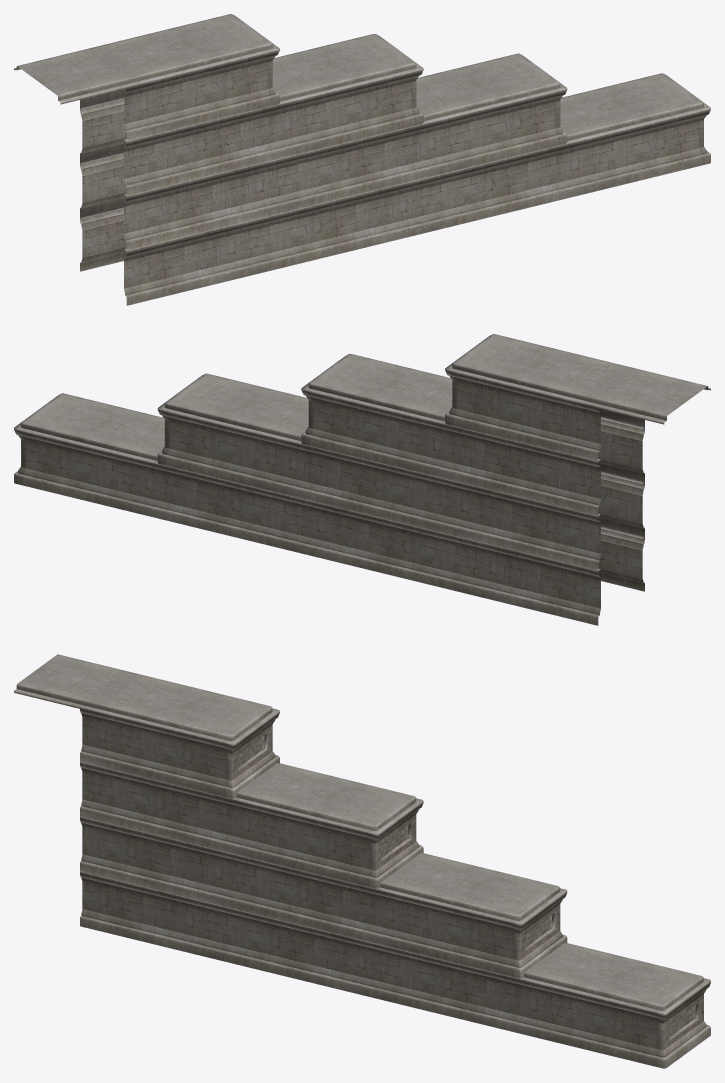
Rendered from BigRail.fbx.
3 views of the same model, one above another, from view 1: azimuth 30°, elevation 25°; view 2: azimuth 150°, elevation 25°; view 3: azimuth 330°, elevation 25° (orthographic).
Parts seen in each view (by area): view 1: LV_Campagna_Uni_BigRail_SM_CJH; view 2: LV_Campagna_Uni_BigRail_SM_CJH; view 3: LV_Campagna_Uni_BigRail_SM_CJH.
Part boxes in pixels (<box>): LV_Campagna_Uni_BigRail_SM_CJH: <box>14,14,710,305</box>; LV_Campagna_Uni_BigRail_SM_CJH: <box>14,334,710,625</box>; LV_Campagna_Uni_BigRail_SM_CJH: <box>14,654,710,1068</box>.
Bounding box in the file's own units: 8.7 × 2.86 × 1.08.
